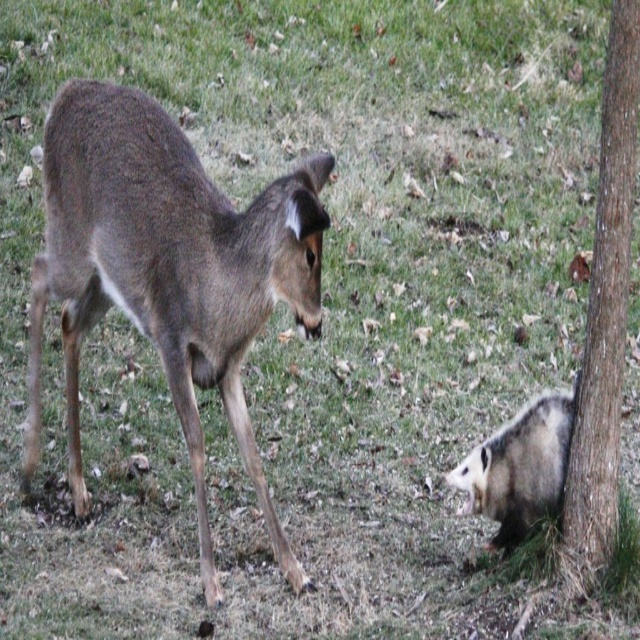Deer: (18, 75, 336, 609)
